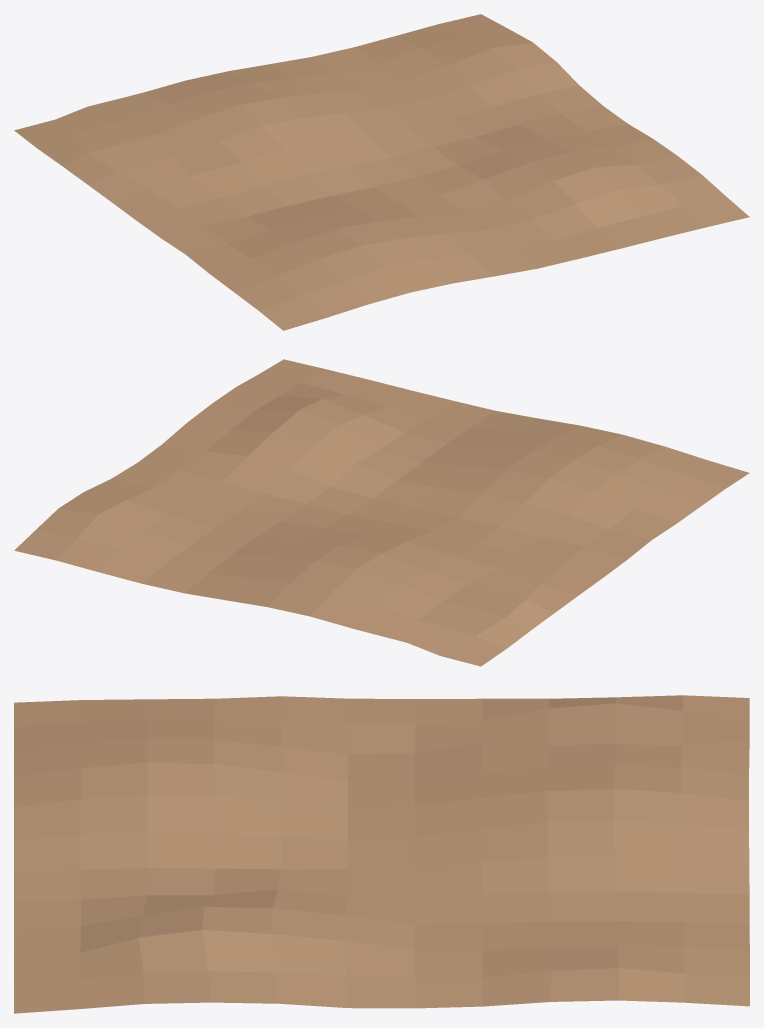
Rendered from Arena.fbx.
3 views of the same model, one above another, from view 1: azimuth 30°, elevation 25°; view 2: azimuth 150°, elevation 25°; view 3: azimuth 270°, elevation 25° (orthographic). The views are drawn at different scales.
Visible parts, largest first — view 1: Ground; view 2: Ground; view 3: Ground.
Boxes of the visible parts, <box> form: Ground: <box>14,14,749,330</box>; Ground: <box>14,359,749,666</box>; Ground: <box>14,695,749,1013</box>.
Bounding box in the file's own units: 101 × 4.52 × 100.
